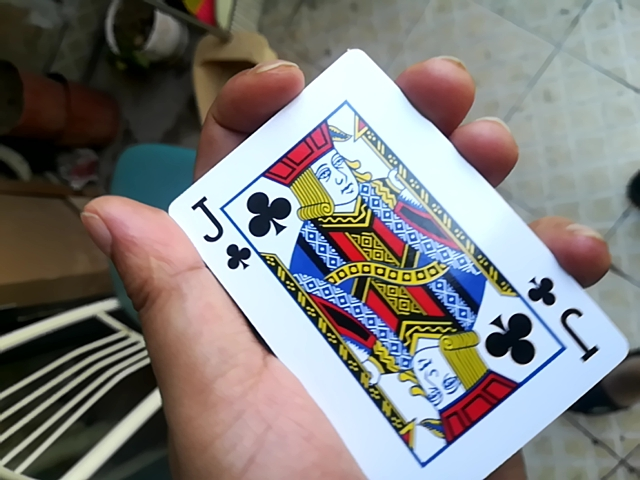mh j: (142, 44, 625, 480)
